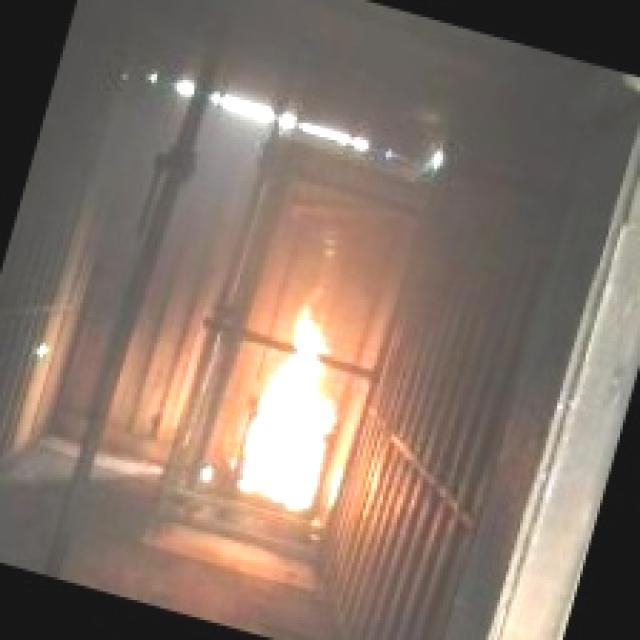fire: (212, 302, 372, 524)
